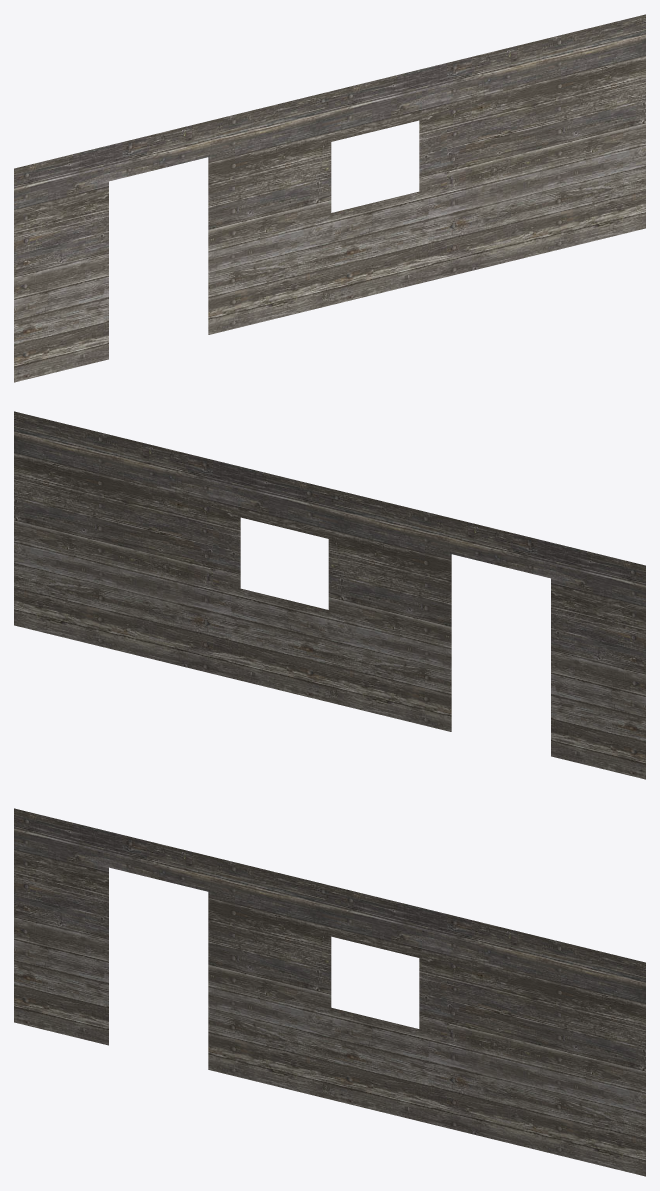
File: wall_west.fbx
3 views of the same model, one above another, from view 1: azimuth 30°, elevation 25°; view 2: azimuth 150°, elevation 25°; view 3: azimuth 330°, elevation 25° (orthographic).
Visible parts, largest first — view 1: polySurface9; view 2: polySurface9; view 3: polySurface9.
Part boxes in pixels (x1,y1,x2,y2): polySurface9: [14, 14, 645, 382]; polySurface9: [14, 411, 645, 779]; polySurface9: [14, 808, 645, 1176].
Bounding box in the file's own units: 855 × 277 × 0.000151.
